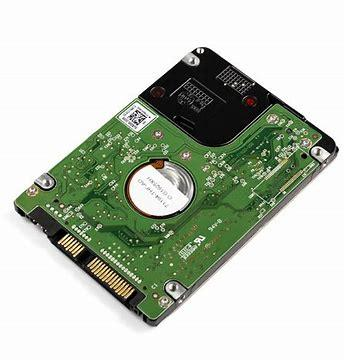internal HDD: (13, 47, 339, 328)
